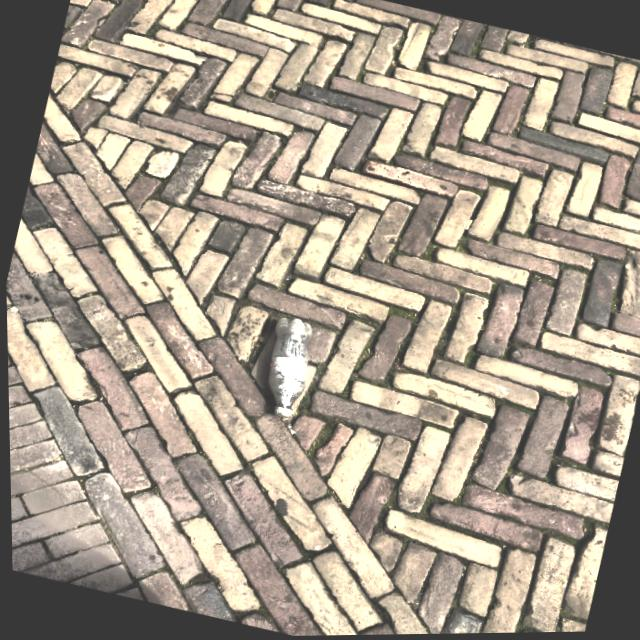Bottles: (237, 302, 343, 439)
